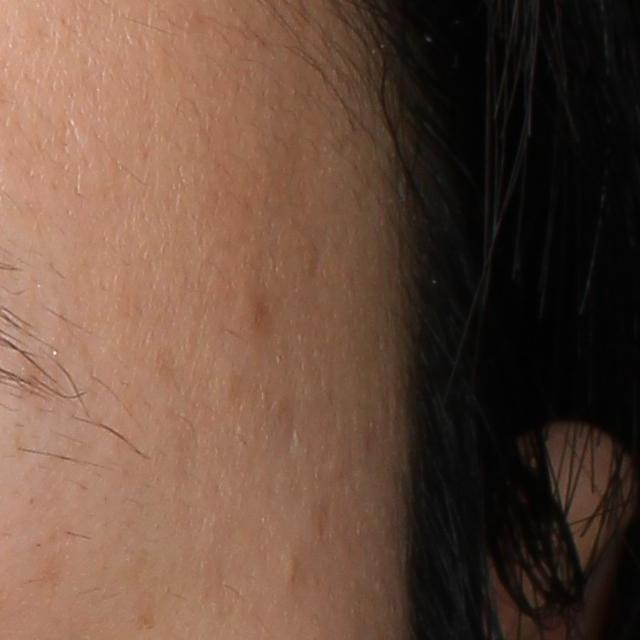comedo: (281, 551, 302, 589)
melasma: (131, 586, 158, 635)
